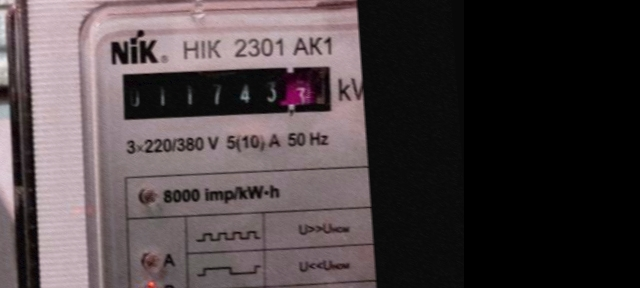0: (124, 81, 140, 109)
1: (151, 79, 167, 108), (179, 78, 194, 107)
3: (260, 76, 276, 104), (290, 84, 306, 106)
4: (234, 79, 250, 105)
7: (206, 79, 222, 105)
screen: (110, 53, 340, 132)
